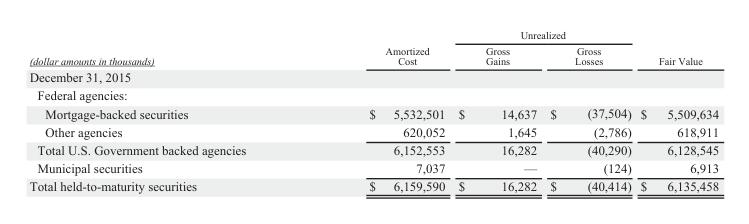table: (28, 28, 718, 192)
table column: (28, 28, 306, 192), (306, 28, 451, 192), (542, 28, 635, 192), (451, 28, 542, 192), (635, 28, 718, 192)
table column header: (28, 28, 718, 68)
table projected row header: (28, 68, 718, 86), (28, 86, 718, 104)
table row: (28, 42, 718, 68), (28, 68, 718, 86), (28, 86, 718, 104), (28, 104, 718, 122), (28, 122, 718, 140), (28, 140, 718, 158), (28, 158, 718, 176), (28, 176, 718, 192), (28, 28, 718, 42)
table spanning cell: (28, 28, 306, 68), (306, 28, 451, 68), (635, 28, 718, 68), (451, 28, 635, 42)
